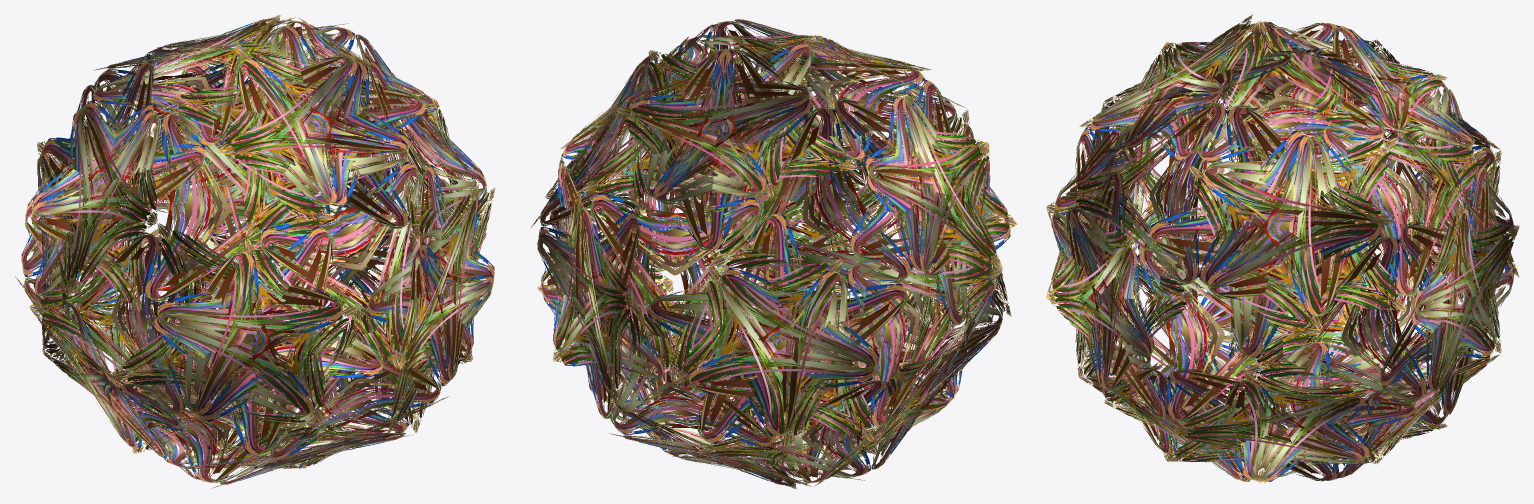
Rendered from SnubIcosidodecadodecahedron9a.gltf.
3 views of the same model, side by side, from view 1: azimuth 30°, elevation 25°; view 2: azimuth 150°, elevation 25°; view 3: azimuth 270°, elevation 25° (orthographic).
Visible parts, largest first — view 1: SnubIcosidodecadodecahedron9a; view 2: SnubIcosidodecadodecahedron9a; view 3: SnubIcosidodecadodecahedron9a.
Boxes of the visible parts, left/top/right/bottom form: SnubIcosidodecadodecahedron9a: left=15, top=14, right=495, bottom=488; SnubIcosidodecadodecahedron9a: left=531, top=19, right=1017, bottom=489; SnubIcosidodecadodecahedron9a: left=1046, top=14, right=1519, bottom=482.
Size of the model in its own units: 2.21 by 2.21 by 2.21.
1 material, 1 textured.
